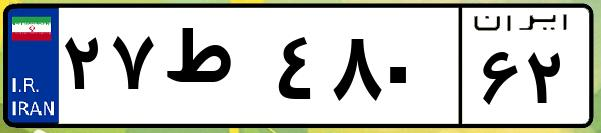0: (385, 28, 445, 110)
2: (57, 26, 110, 100), (525, 38, 570, 115)
4: (270, 28, 330, 110)
6: (475, 38, 525, 113)
7: (110, 28, 158, 98)
8: (330, 28, 385, 110)
ط: (158, 20, 270, 120)
